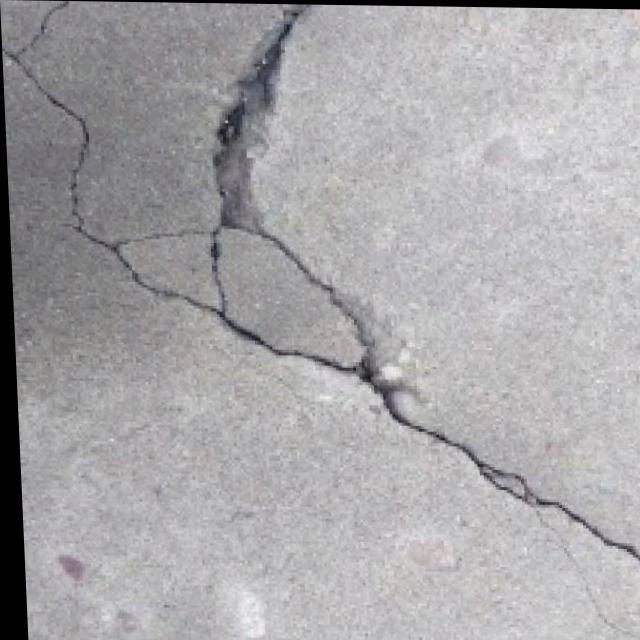Crack: (2, 0, 640, 601)
